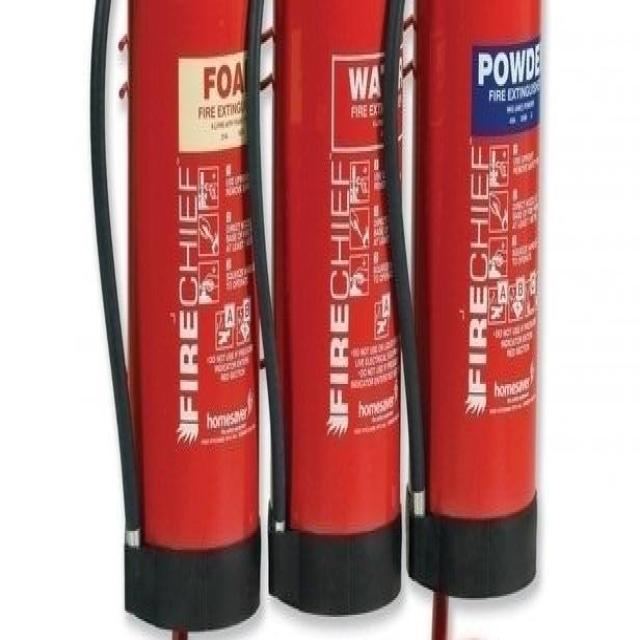fire_extinguisher: (85, 0, 264, 634), (237, 0, 408, 621), (377, 0, 549, 600)
